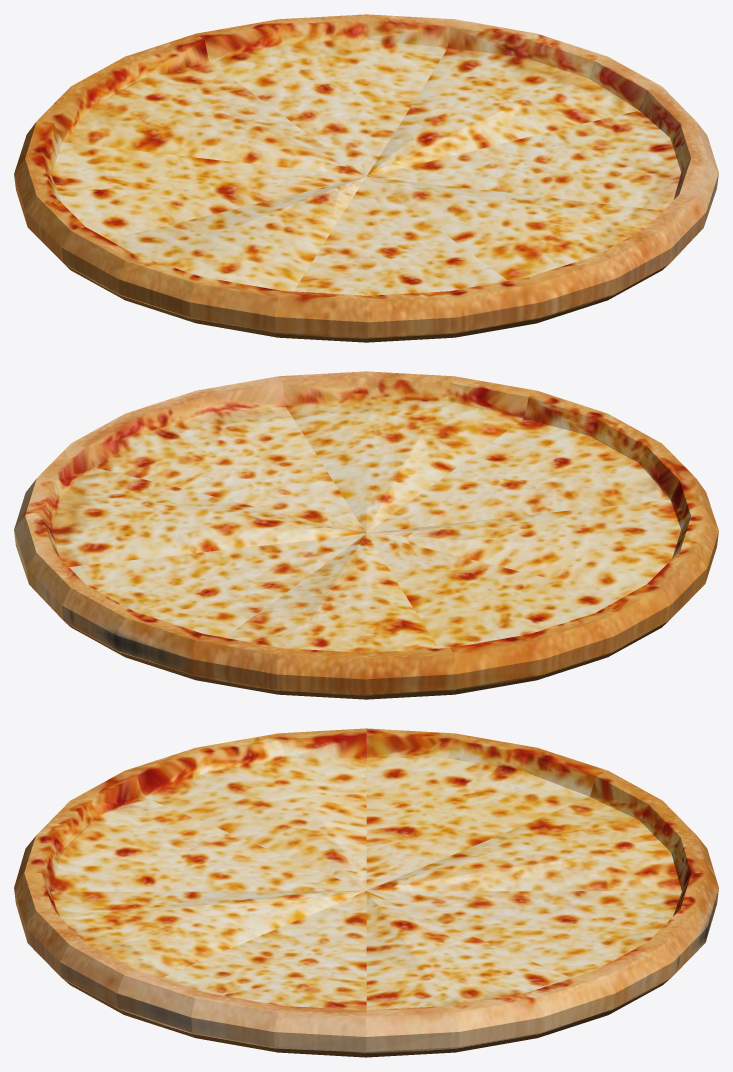
Rendered from pizzaBase.glb.
3 views of the same model, one above another, from view 1: azimuth 30°, elevation 25°; view 2: azimuth 150°, elevation 25°; view 3: azimuth 270°, elevation 25° (orthographic).
Visible parts, largest first — view 1: Node.006; view 2: Node.006; view 3: Node.006.
Boxes of the visible parts, bbox=[...] form: Node.006: bbox=[14, 14, 718, 342]; Node.006: bbox=[14, 371, 718, 699]; Node.006: bbox=[14, 728, 718, 1057].
Size of the model in its own units: 1.9 by 0.1295 by 1.89.
1 material, 1 textured.
